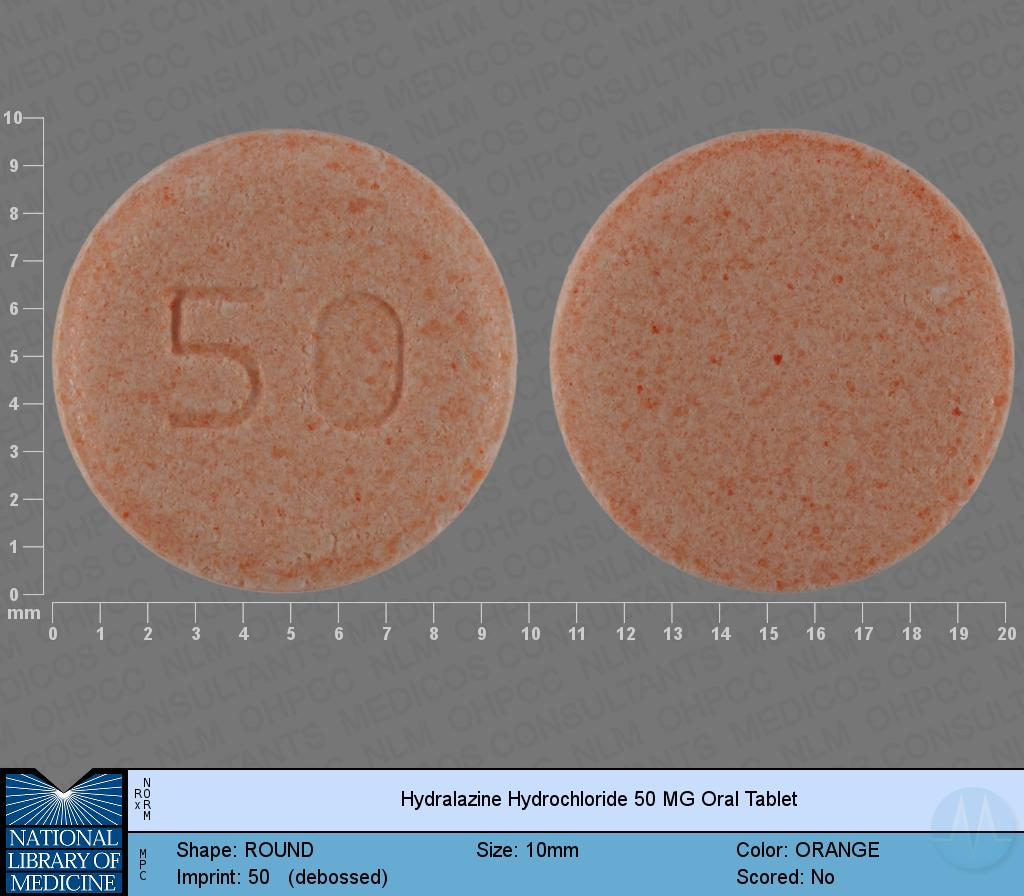Pill: (47, 118, 527, 602), (543, 118, 1024, 600)
